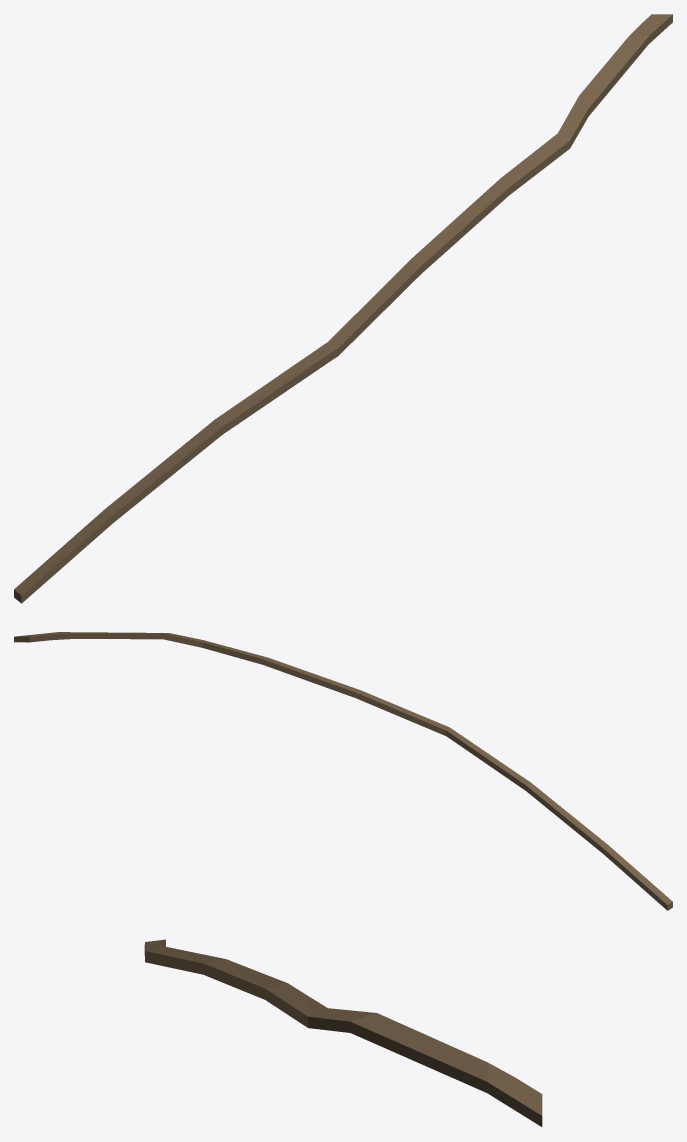
3 renders of one model, top to bottom at view 1: azimuth 30°, elevation 25°; view 2: azimuth 150°, elevation 25°; view 3: azimuth 270°, elevation 25°, orthographic. The views are drawn at different scales.
Size of the model in its own units: 72.16 by 26.08 by 22.21.
